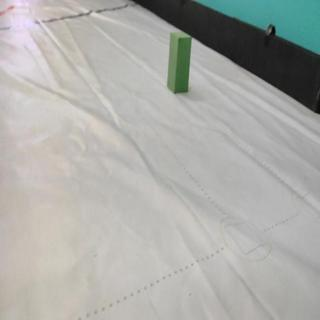greenbox: (167, 28, 193, 93)
